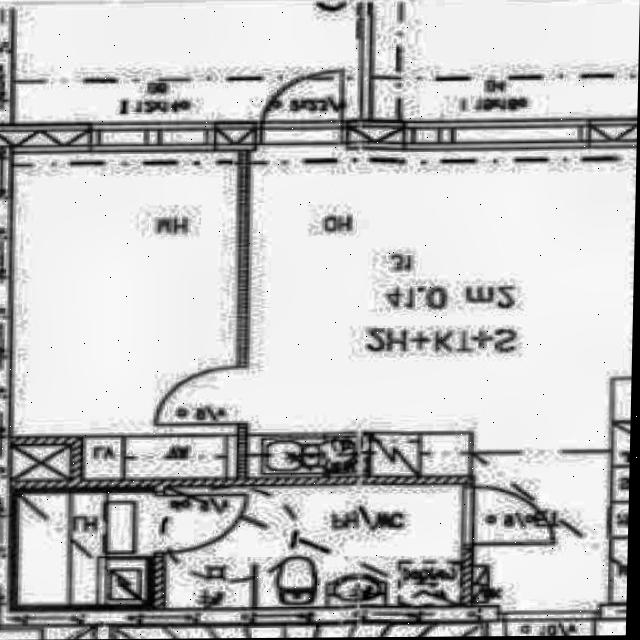room: (12, 150, 237, 482), (166, 485, 462, 607), (16, 492, 154, 604)
